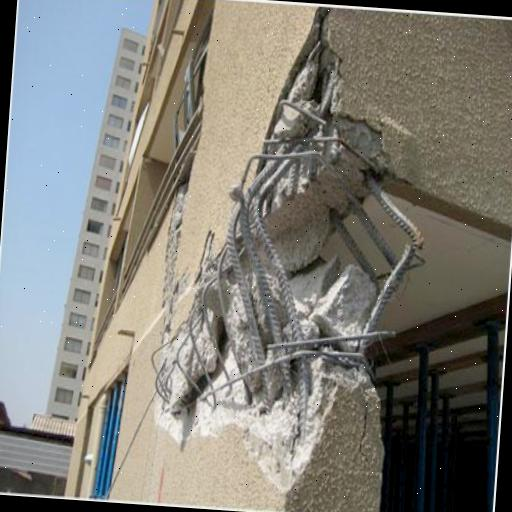spalling: (160, 17, 435, 468)
